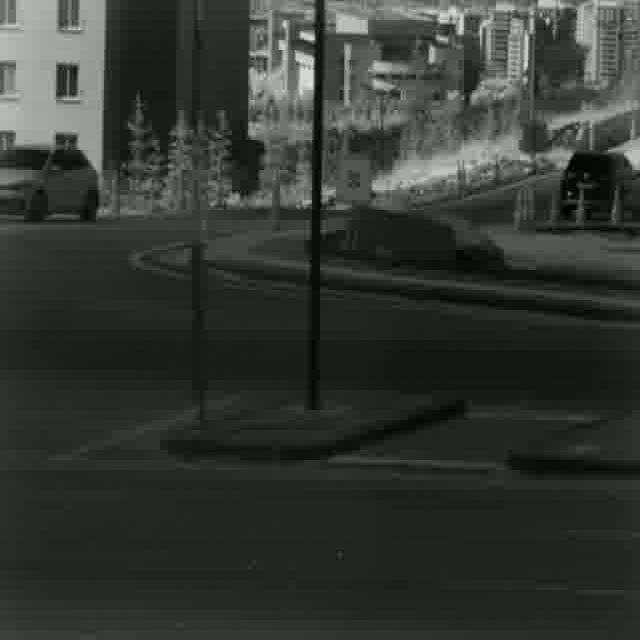Car: (0, 146, 99, 224), (556, 148, 640, 220)
